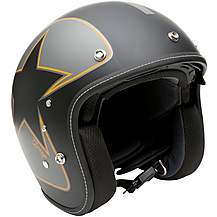with_helmet: (7, 1, 214, 216)
